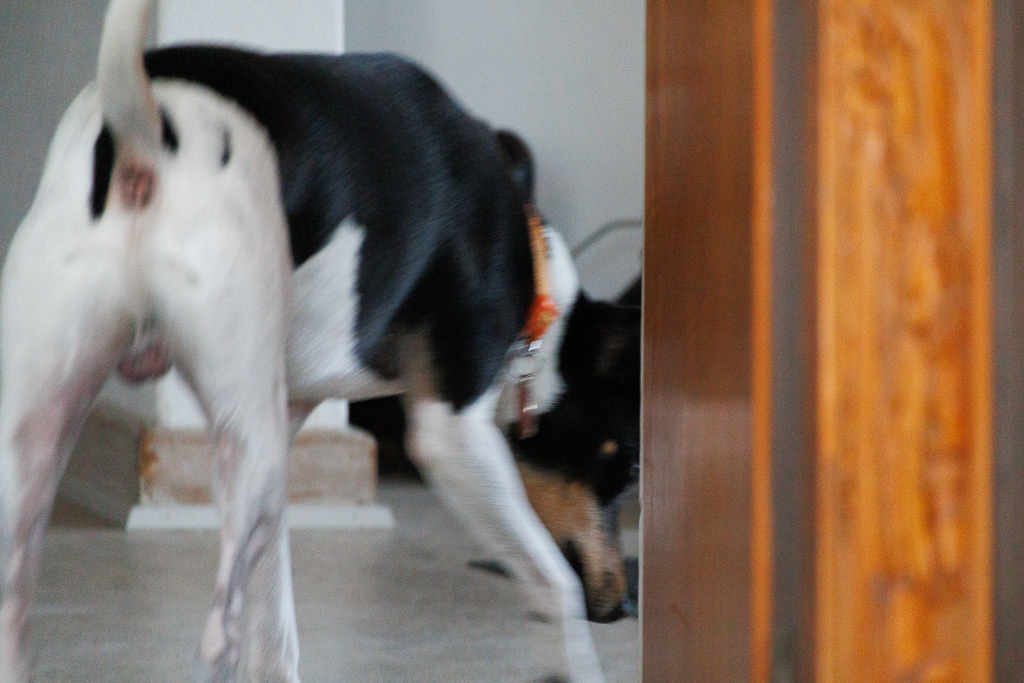Dog: (0, 0, 653, 683)
